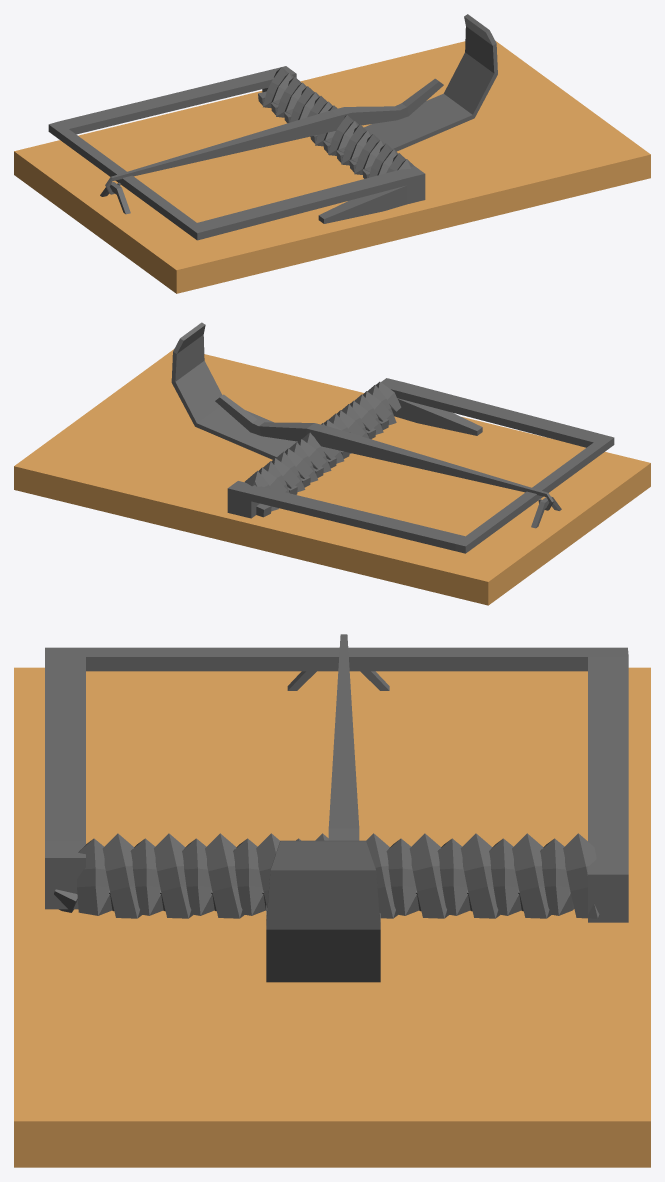
Rendered from Rat_Trap_1.0.fbx.
The picture shows the model from 3 angles, top to bottom: view 1: azimuth 30°, elevation 25°; view 2: azimuth 150°, elevation 25°; view 3: azimuth 270°, elevation 25°; orthographic projection. The views are drawn at different scales.
Parts seen in each view (by area): view 1: Cube; view 2: Cube; view 3: Cube.
Part boxes in pixels (x1,y1,x2,y2): Cube: (14,14,650,293); Cube: (14,322,650,605); Cube: (14,634,650,1167).
Bounding box in the file's own units: 337 × 82.18 × 200.
